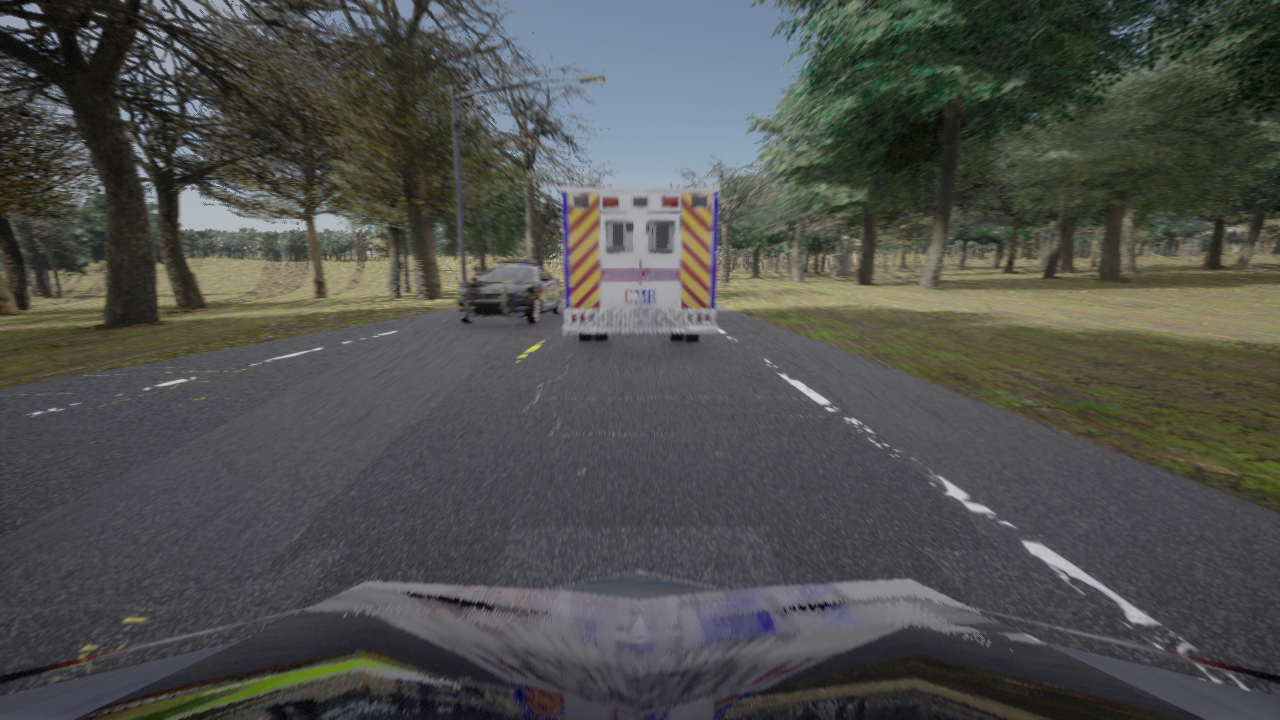cyclist: (0, 569, 1279, 719), (561, 187, 719, 342), (457, 259, 561, 324)
